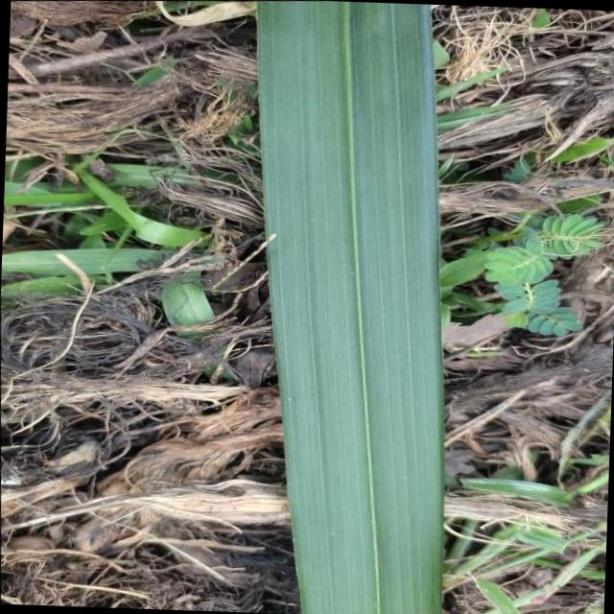Healthy: (246, 0, 447, 612)
